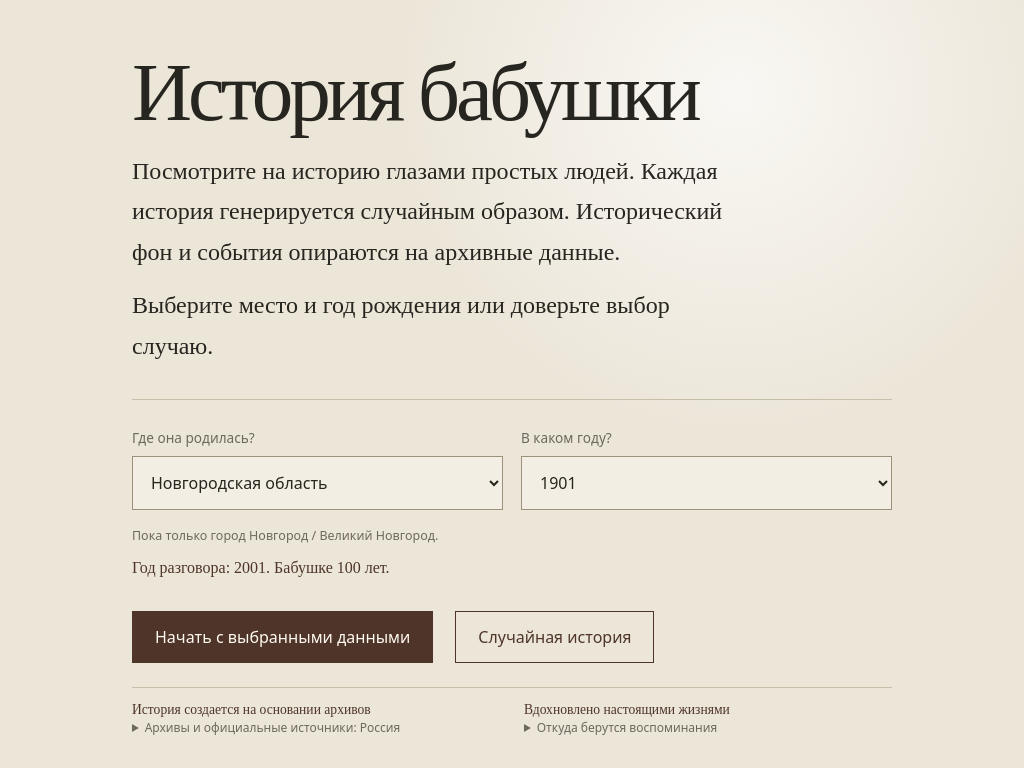
Test: accessible vertical slice › keeps the start screen usable when a regional pack is missing
The image size is (1024, 768).
Select "Тверь / Калинин" in the dropdown labelled "Где она родилась?" at (318, 482), box x1=132 y1=456 x2=503 y2=510
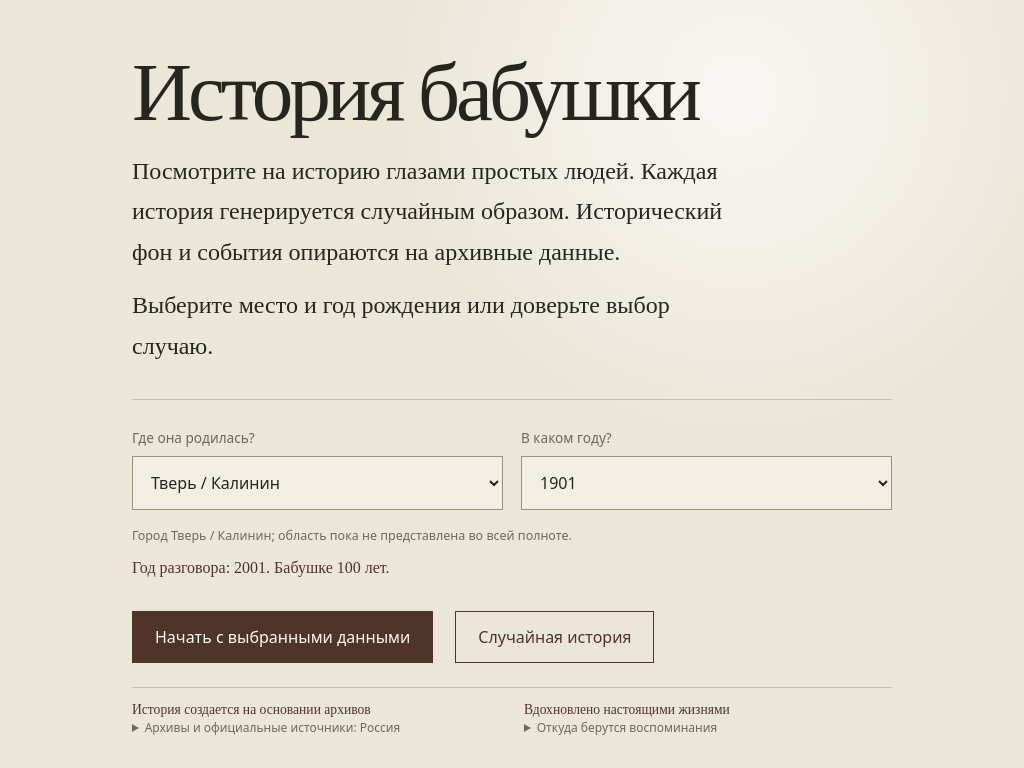
Click the button "Начать с выбранными данными".
click(283, 637)  # box x1=132 y1=611 x2=433 y2=663
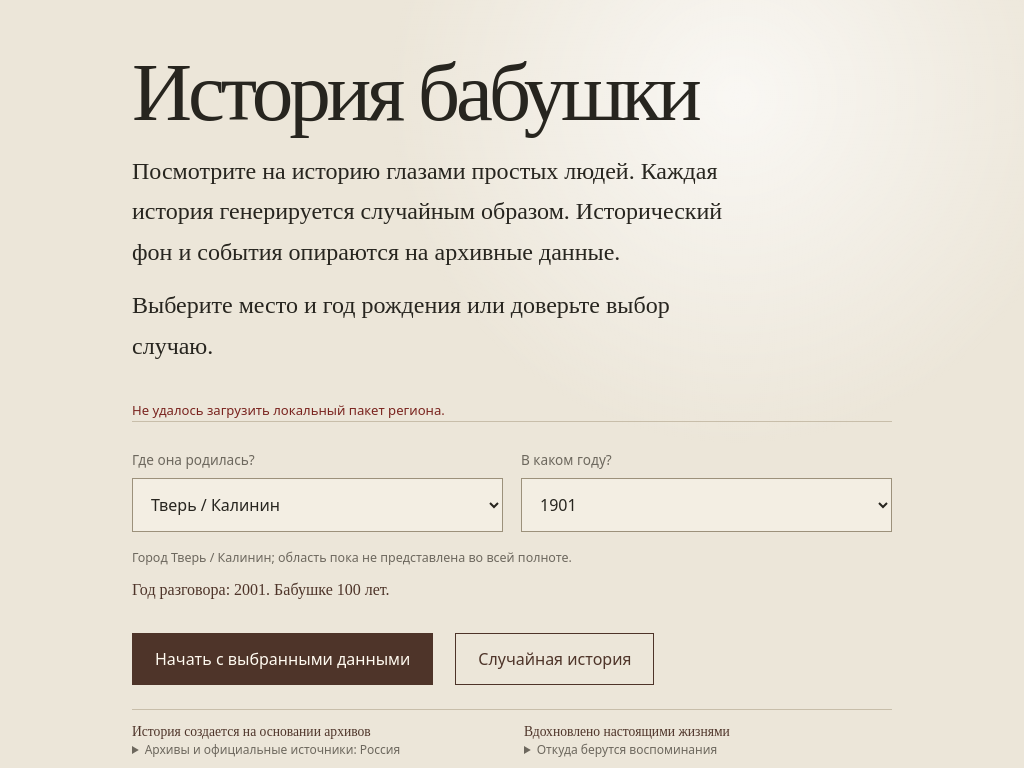
Expected: the button "Начать с выбранными данными" is shown, x1=132 y1=633 x2=433 y2=685
Result: the message shows "Не удалось загрузить локальный пакет региона" at x1=132 y1=400 x2=445 y2=418
